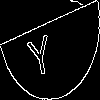Y: (25, 25, 54, 78)
